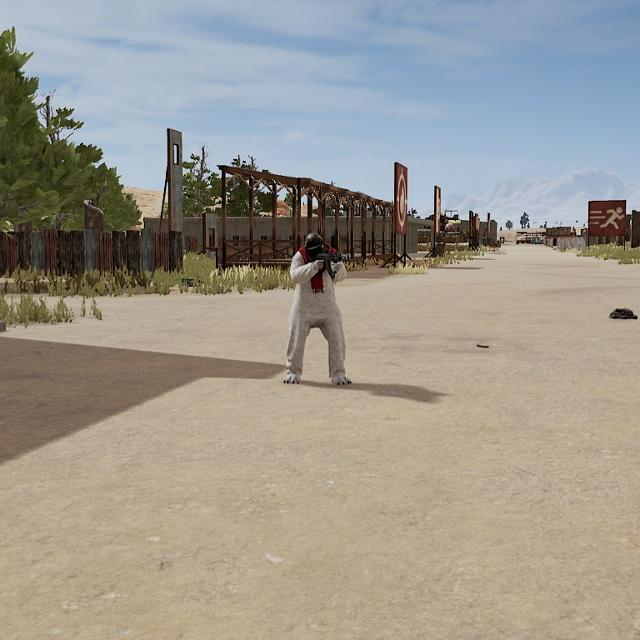head: (302, 231, 329, 259)
people: (280, 230, 355, 390)
